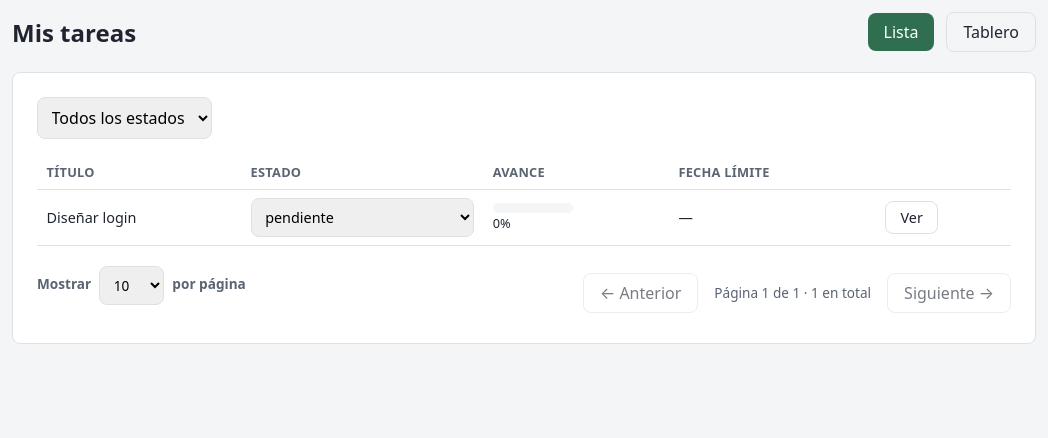
it: WorkerTasks — cambio de estado desde la lista › muestra el mensaje de un ApiError si falla el cambio de estado de una tarea
Expected: the text "Diseñar login" is shown, [37,190,241,246]
Select "en curso" in the dropdown next to "Diseñar login" at [362, 218], box [250,198,474,237]
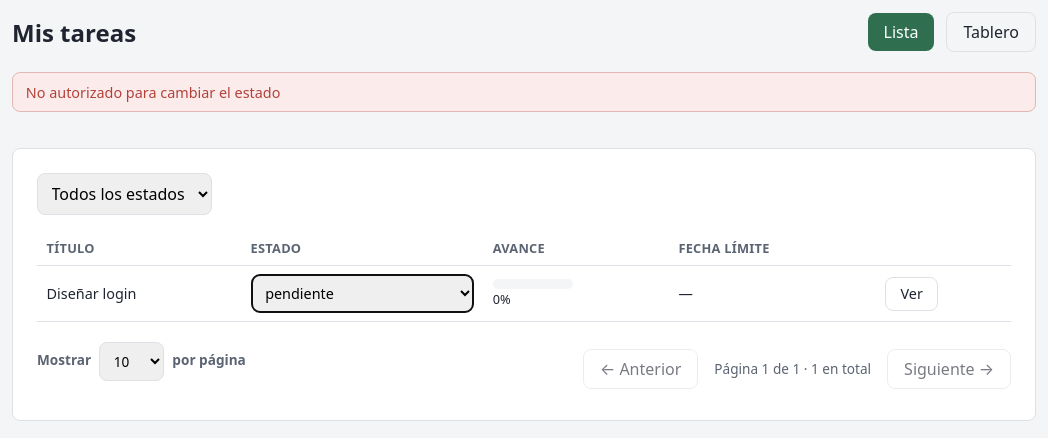
Expected: the text "No autorizado para cambiar el estado" is shown, [12,72,1036,112]
